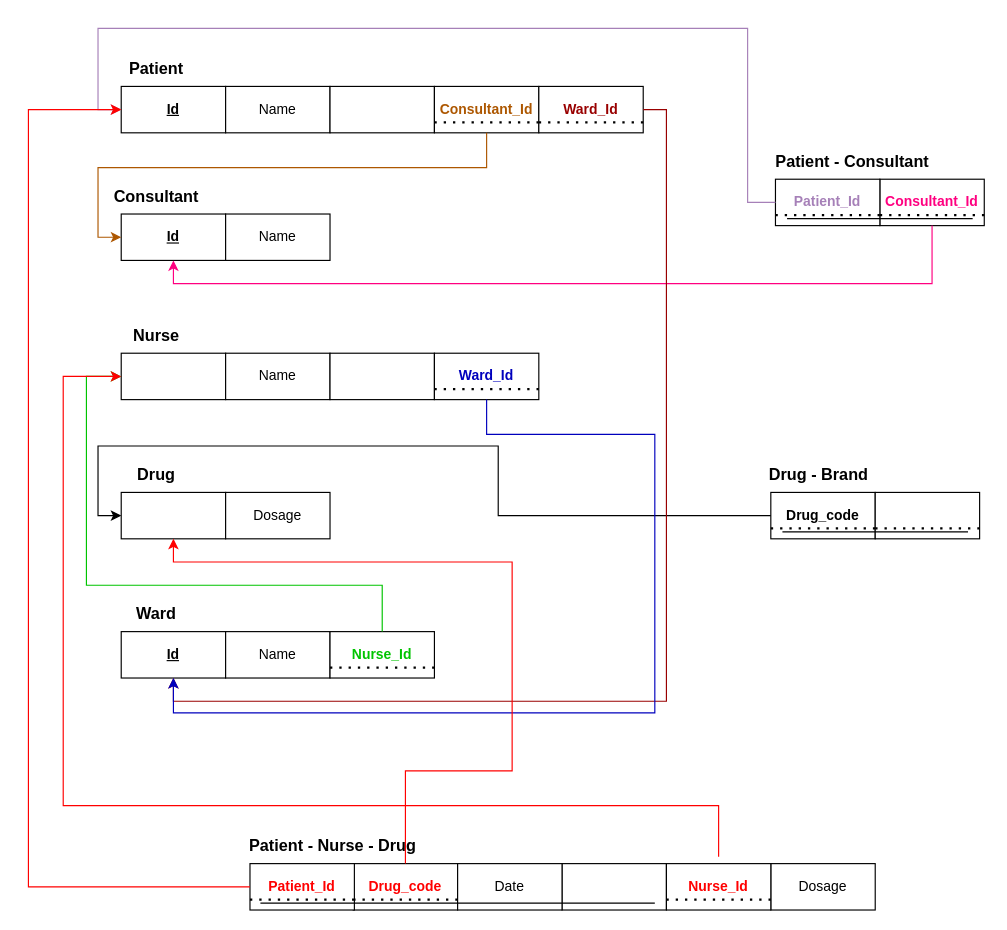
Some shapes in this 1007 by 930 pixel diagram are drawn without their labels. Here are the shapes that lost their labels. From the top down, the box of each, then its label:
(329, 85, 434, 133): DOB
(120, 352, 226, 400): Number
(329, 352, 434, 400): Address
(120, 491, 226, 539): Code
(874, 491, 980, 539): Brand
(561, 862, 666, 910): Time
